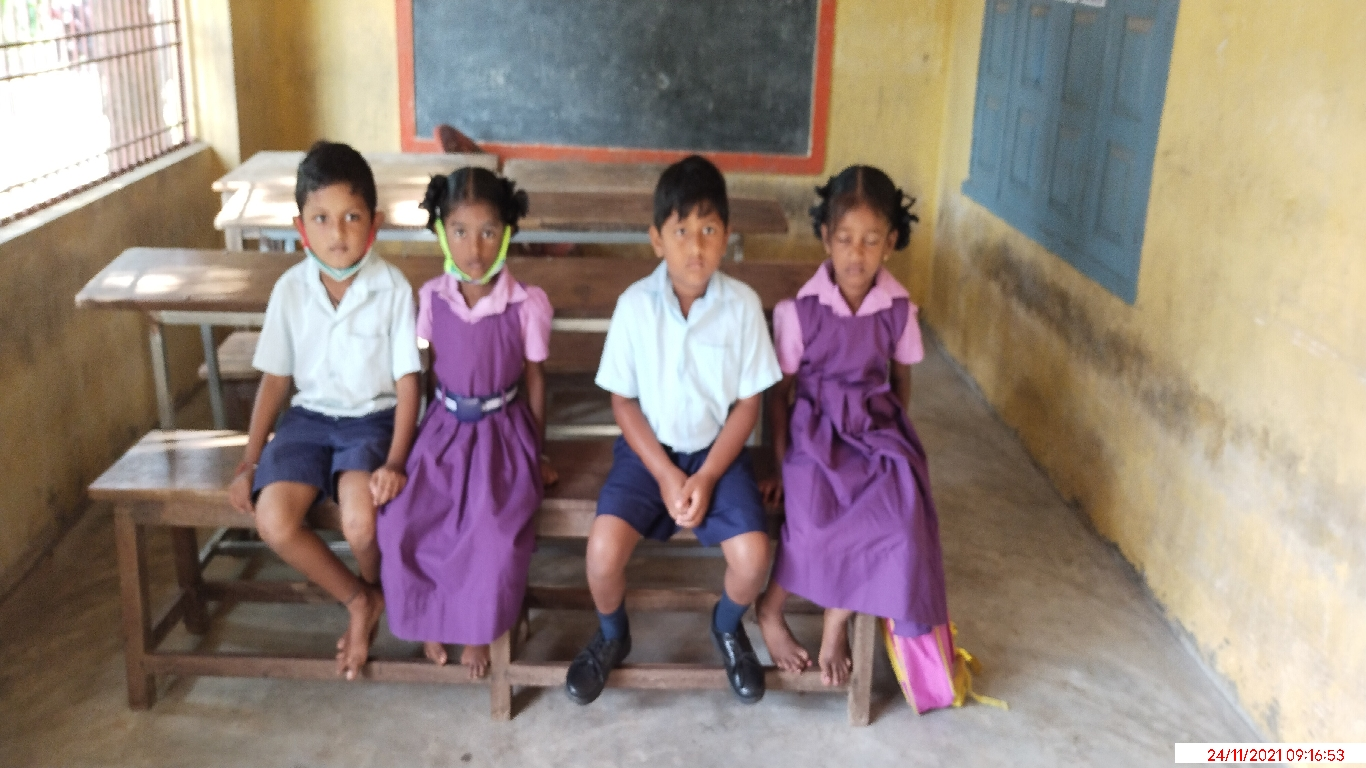student: (216, 134, 409, 532), (598, 148, 780, 542), (786, 165, 944, 569), (417, 171, 567, 535)
